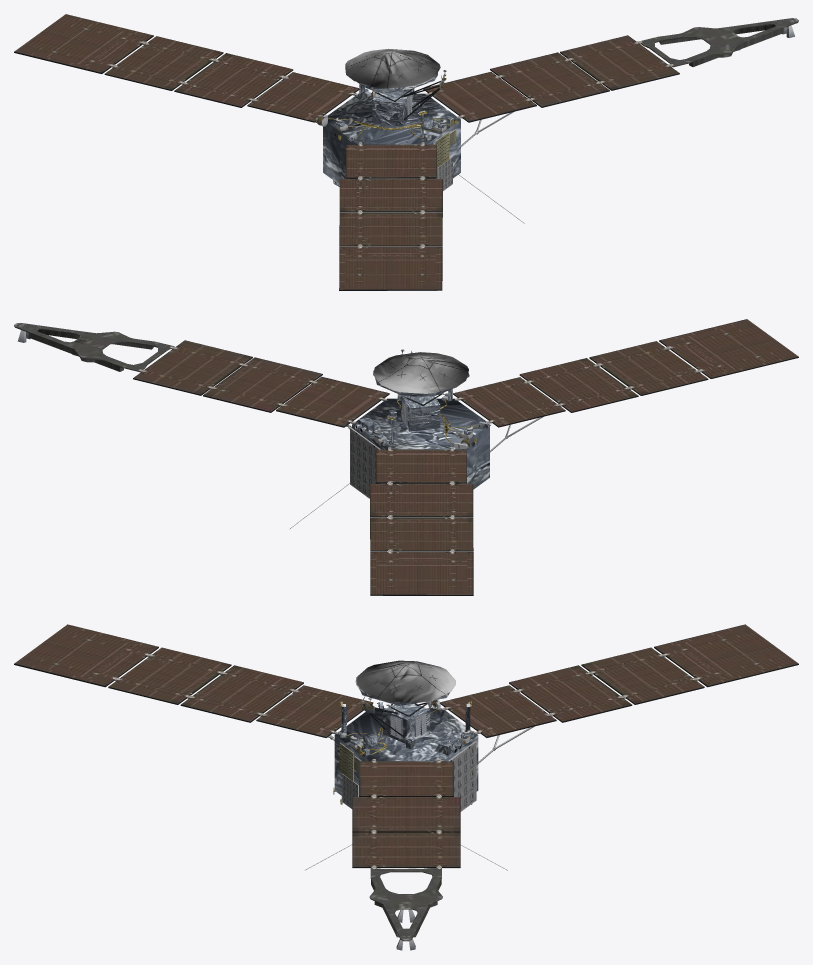
The model's file is juno.glb.
3 views of the same model, one above another, from view 1: azimuth 30°, elevation 25°; view 2: azimuth 150°, elevation 25°; view 3: azimuth 270°, elevation 25° (orthographic). The views are drawn at different scales.
Parts seen in each view (by area): view 1: shiny_panels_Geometry-Body.021, dish_bottom_Geometry-Mesh, solar_panels_Geometry-Body.006, dish_top_Geometry-Mesh.002, black_krinkle_Geometry-Body.007, tex_01_Geometry-Body.003; view 2: shiny_panels_Geometry-Body.021, dish_bottom_Geometry-Mesh, tex_01_Geometry-Body.003, dish_top_Geometry-Mesh.002, solar_panels_Geometry-Body.006, black_krinkle_Geometry-Body.007; view 3: shiny_panels_Geometry-Body.021, dish_bottom_Geometry-Mesh, tex_01_Geometry-Body.003, dish_top_Geometry-Mesh.002, solar_panels_Geometry-Body.006, black_krinkle_Geometry-Body.007.
Boxes of the visible parts, x1,y1,x2,y2 form: shiny_panels_Geometry-Body.021: [14, 14, 679, 289]; dish_bottom_Geometry-Mesh: [323, 52, 460, 186]; solar_panels_Geometry-Body.006: [387, 18, 798, 290]; dish_top_Geometry-Mesh.002: [345, 48, 440, 88]; black_krinkle_Geometry-Body.007: [14, 35, 679, 290]; tex_01_Geometry-Body.003: [110, 25, 794, 247]; shiny_panels_Geometry-Body.021: [133, 319, 798, 594]; dish_bottom_Geometry-Mesh: [352, 352, 490, 489]; tex_01_Geometry-Body.003: [17, 330, 702, 552]; dish_top_Geometry-Mesh.002: [373, 352, 468, 393]; solar_panels_Geometry-Body.006: [14, 323, 382, 595]; black_krinkle_Geometry-Body.007: [133, 340, 798, 595]; shiny_panels_Geometry-Body.021: [14, 624, 798, 866]; dish_bottom_Geometry-Mesh: [334, 681, 478, 800]; tex_01_Geometry-Body.003: [112, 653, 699, 950]; dish_top_Geometry-Mesh.002: [356, 660, 455, 702]; solar_panels_Geometry-Body.006: [352, 868, 460, 941]; black_krinkle_Geometry-Body.007: [14, 647, 798, 867].
Size of the model in its own units: 17.66 by 4.25 by 18.54.
9 materials, 9 textured.
